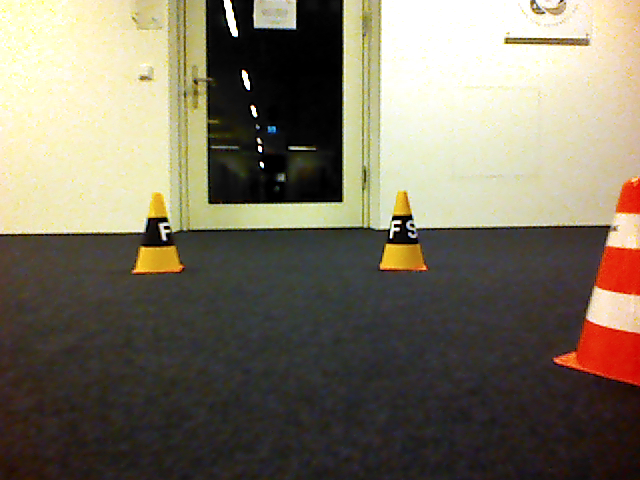orangeconesmall: (553, 175, 640, 389)
yellowcone: (130, 192, 186, 276), (379, 190, 430, 273)
